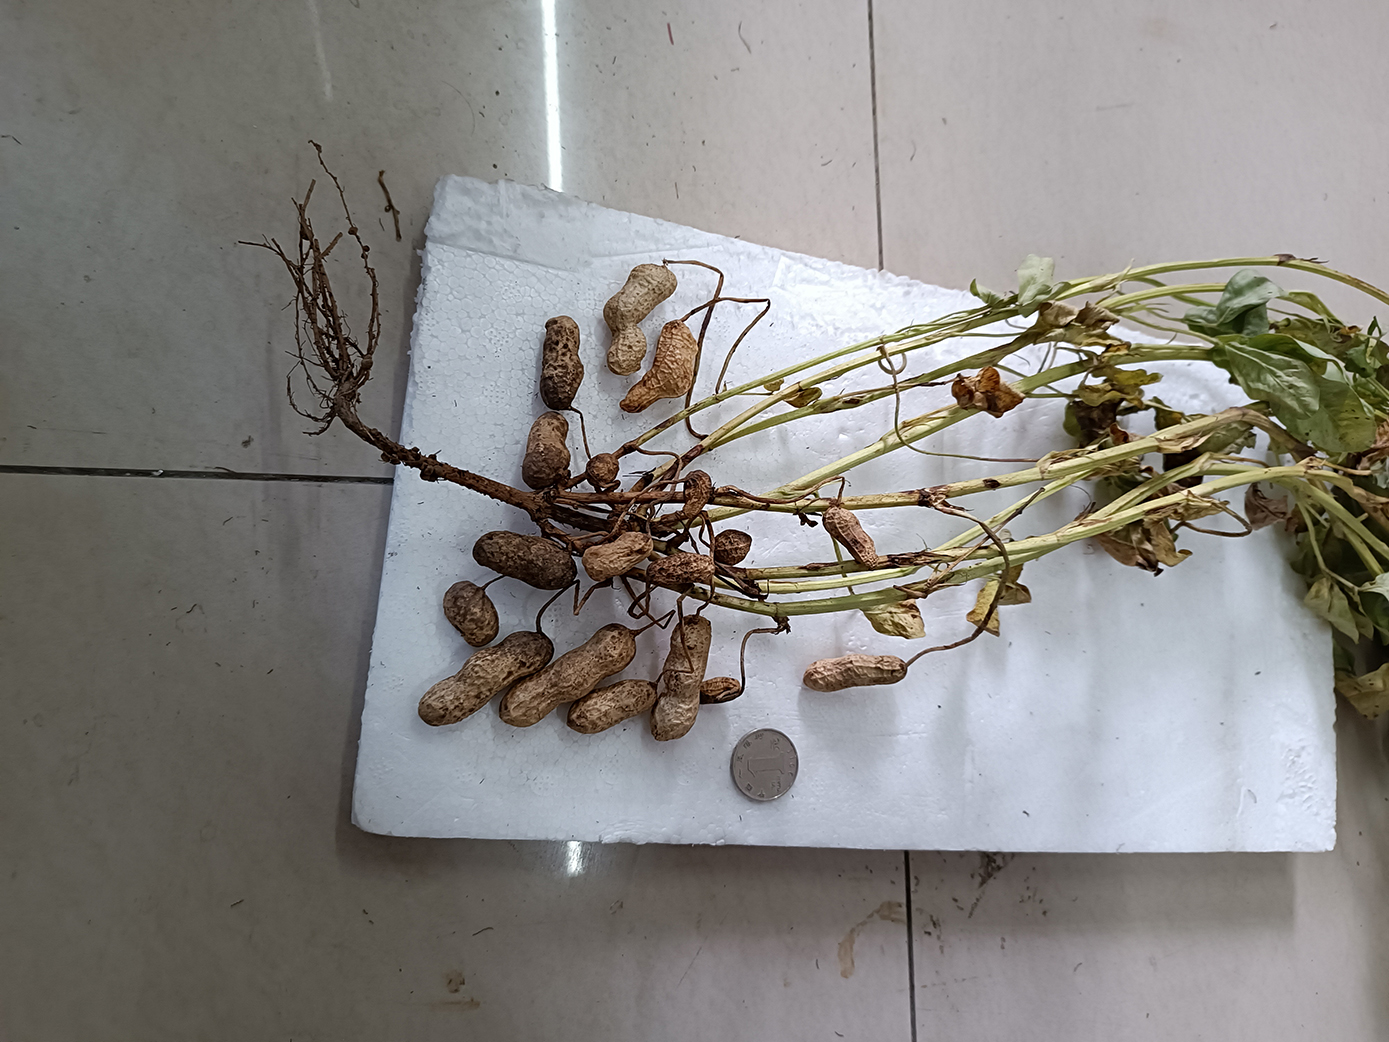h: (498, 622, 637, 728), (419, 630, 553, 730), (603, 263, 678, 377), (651, 614, 711, 740), (620, 320, 698, 412), (568, 679, 657, 734), (518, 412, 572, 491), (822, 505, 882, 570), (442, 582, 500, 647), (802, 655, 908, 690), (582, 532, 652, 580), (646, 553, 715, 584), (713, 529, 752, 566), (682, 471, 713, 518), (699, 678, 743, 703), (589, 454, 620, 487)
l: (472, 531, 579, 591), (539, 316, 584, 408)
